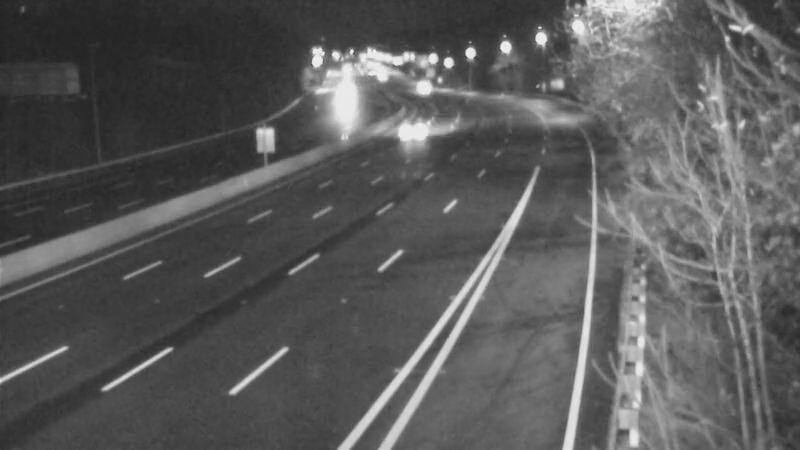vehicle: (384, 107, 434, 157)
